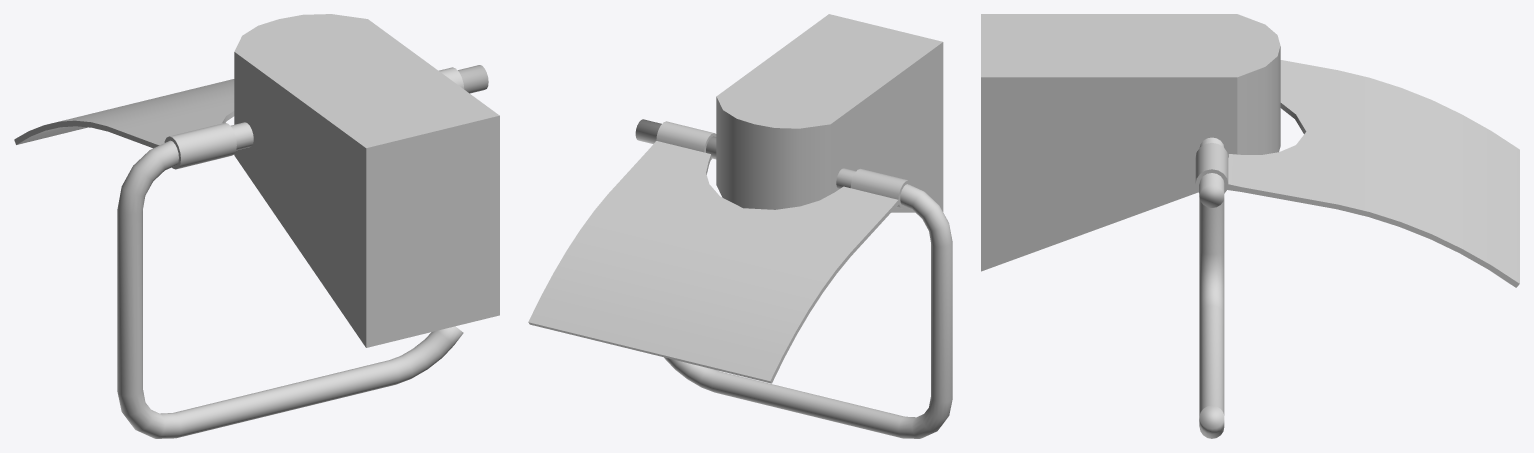
Rendered from TissueHanger03.fbx.
3 renders of one model, left to right at view 1: azimuth 30°, elevation 25°; view 2: azimuth 150°, elevation 25°; view 3: azimuth 270°, elevation 25°, orthographic. The views are drawn at different scales.
Visible parts, largest first — view 1: TissueHanger03, TissueHanger03Cover; view 2: TissueHanger03Cover, TissueHanger03; view 3: TissueHanger03, TissueHanger03Cover.
Part boxes in pixels (<box>): TissueHanger03: <box>117,14,499,438</box>; TissueHanger03Cover: <box>14,67,464,169</box>; TissueHanger03Cover: <box>528,121,912,383</box>; TissueHanger03: <box>635,14,952,438</box>; TissueHanger03: <box>981,14,1280,438</box>; TissueHanger03Cover: <box>1195,60,1519,287</box>.
Bounding box in the file's own units: 18.26 × 17.21 × 24.14.
